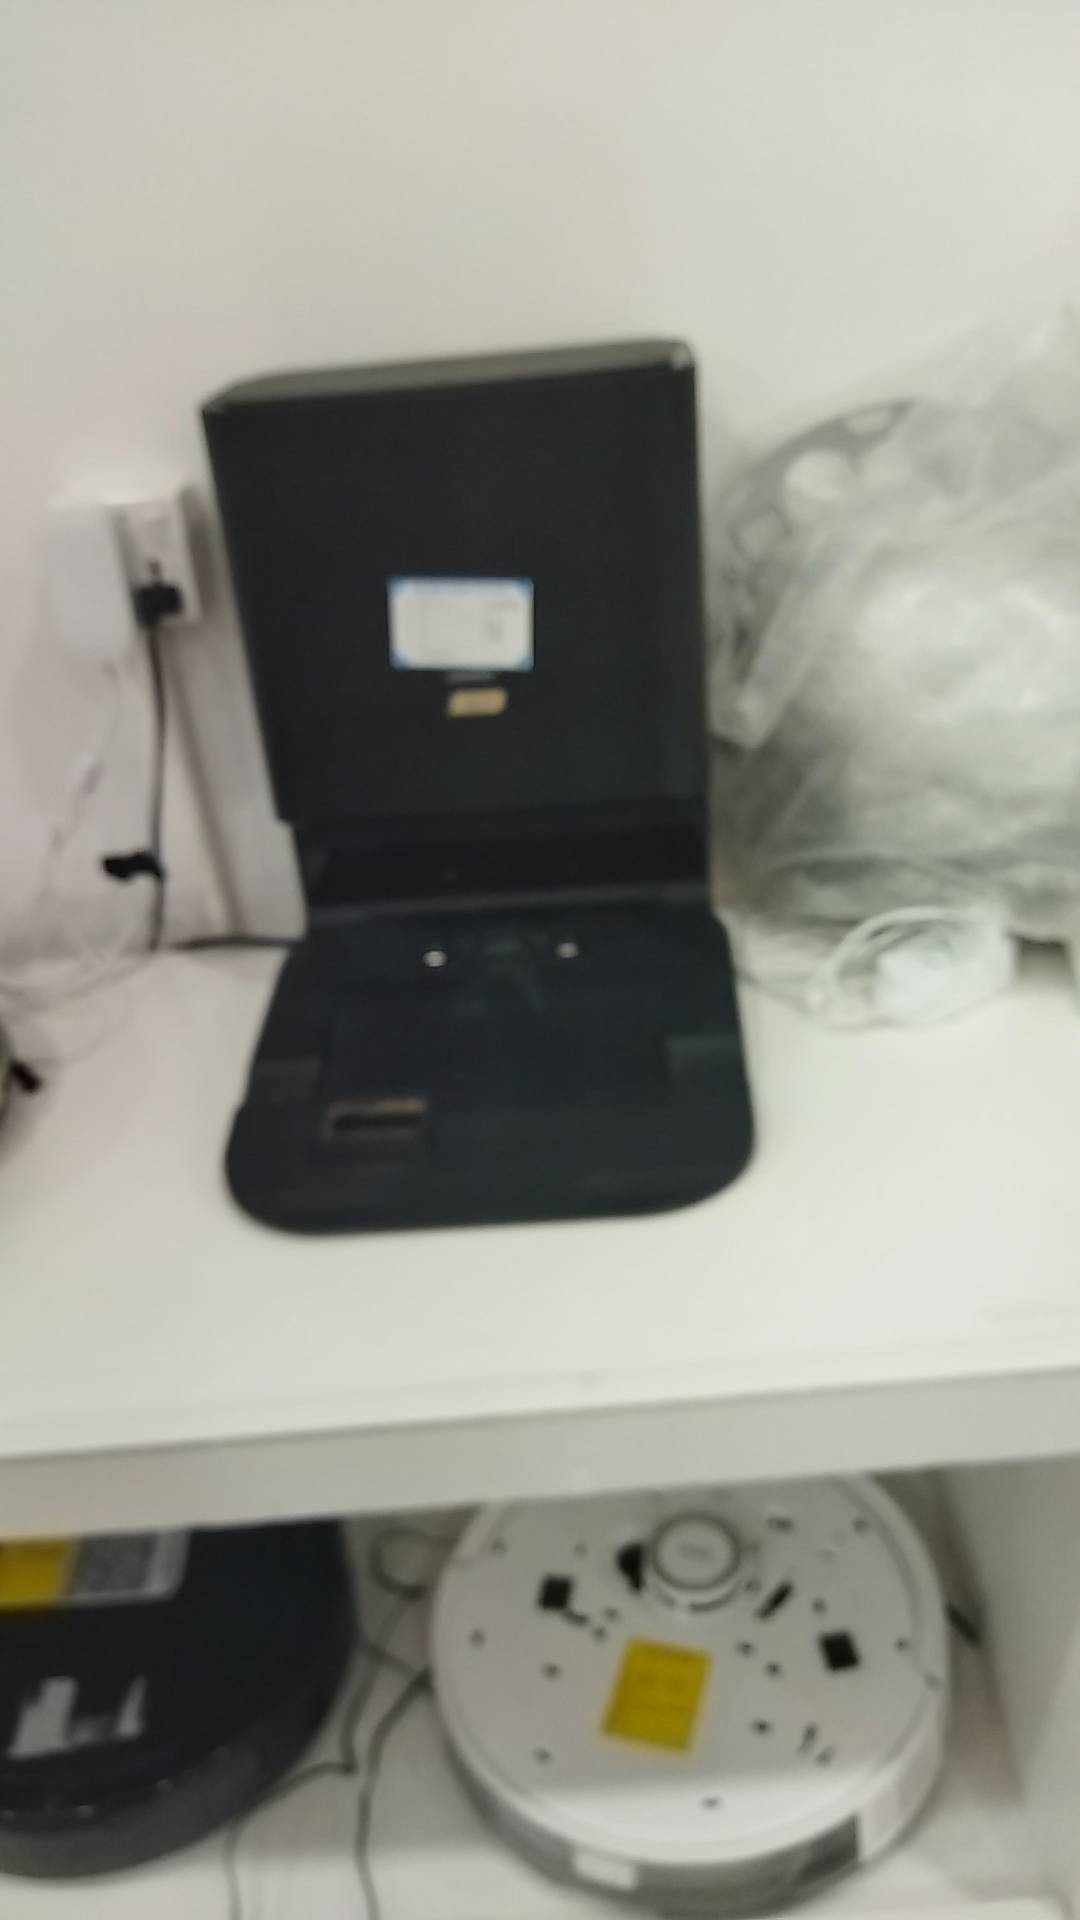dust collecting barrel: (193, 338, 754, 1237)
